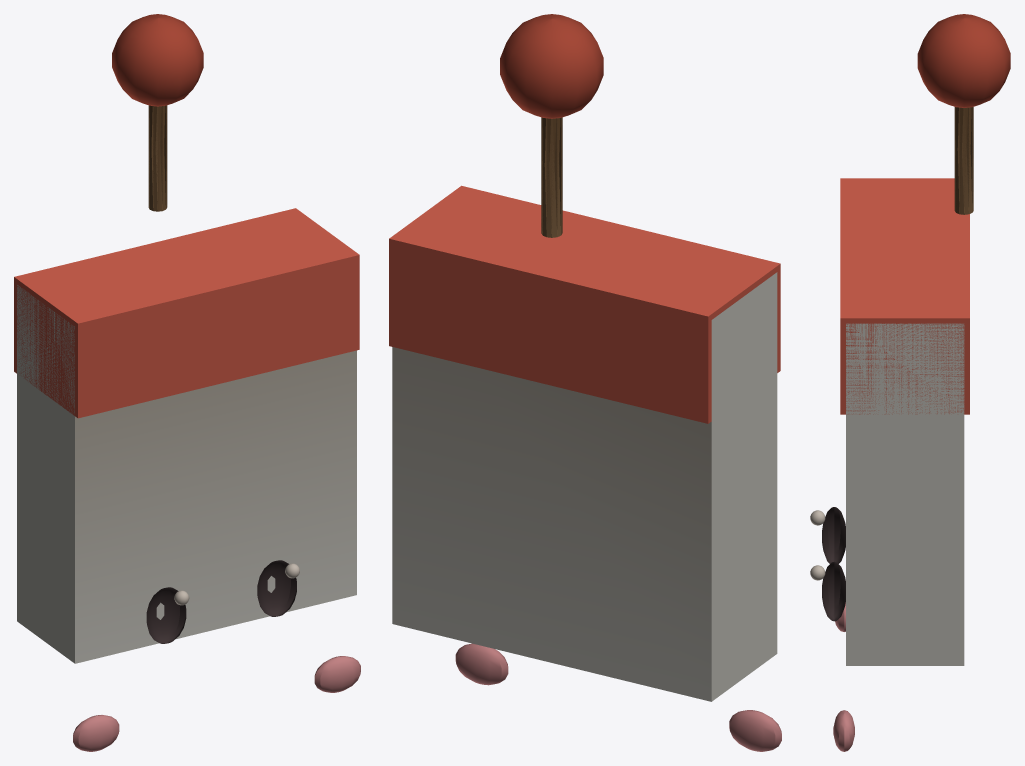
3 renders of one model, left to right at view 1: azimuth 30°, elevation 25°; view 2: azimuth 150°, elevation 25°; view 3: azimuth 270°, elevation 25°, orthographic. The views are drawn at different scales.
Visible parts, largest first — view 1: pet_pa947ce1c; view 2: pet_pa947ce1c; view 3: pet_pa947ce1c.
Part boxes in pixels (bbox=[...]): pet_pa947ce1c: bbox=[14, 14, 360, 751]; pet_pa947ce1c: bbox=[389, 14, 781, 751]; pet_pa947ce1c: bbox=[810, 14, 1010, 751].
Size of the model in its own units: 0.2861 by 0.6264 by 0.1698.
